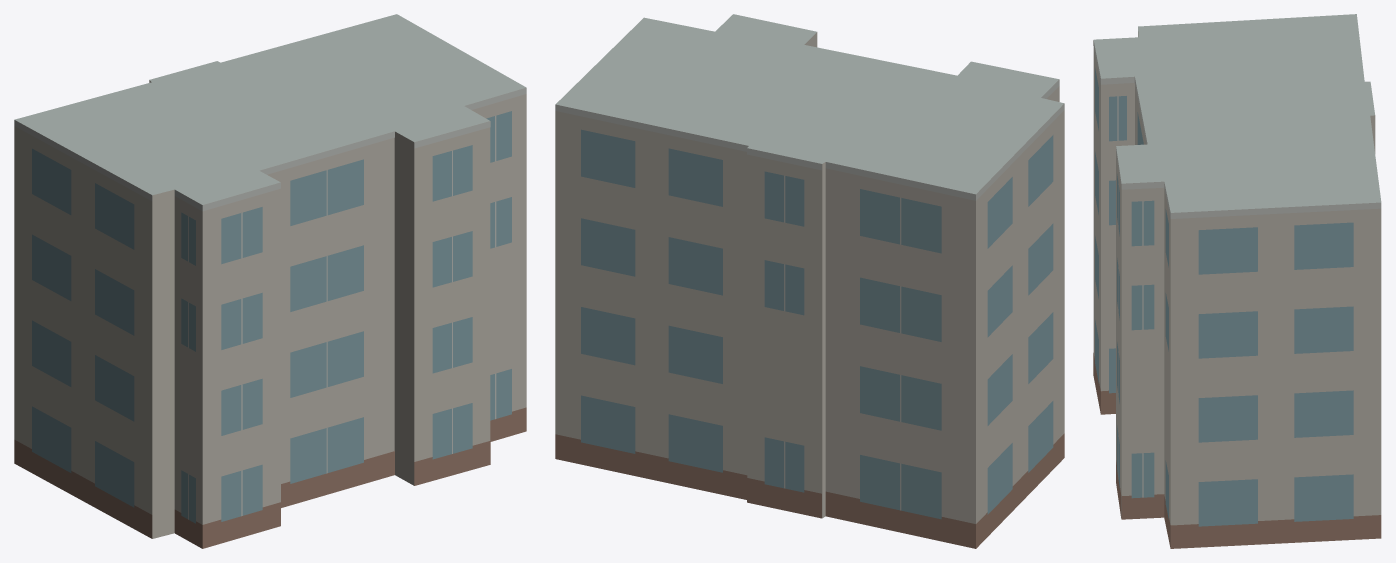
The model's file is survey-upis-32702452.glb.
3 views of the same model, side by side, from view 1: azimuth 30°, elevation 25°; view 2: azimuth 150°, elevation 25°; view 3: azimuth 270°, elevation 25° (orthographic). The views are drawn at different scales.
Parts seen in each view (by area): view 1: survey-upis-32702452.tmp; view 2: survey-upis-32702452.tmp; view 3: survey-upis-32702452.tmp.
Part boxes in pixels (box(x1,y1,x2,y2)): survey-upis-32702452.tmp: box(14, 14, 526, 548); survey-upis-32702452.tmp: box(555, 14, 1064, 548); survey-upis-32702452.tmp: box(1093, 14, 1381, 548).
Size of the model in its own units: 17.04 by 13.41 by 10.43.
